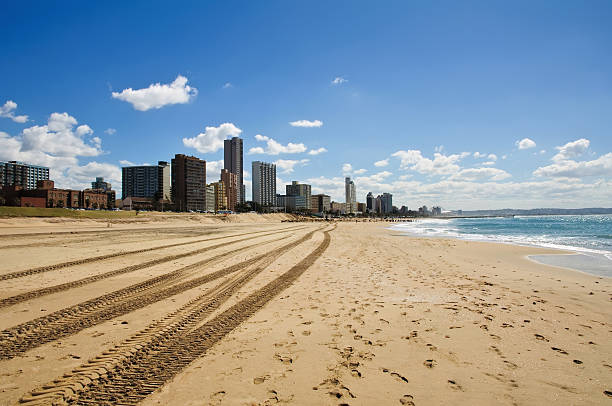vehicle_track: (20, 231, 329, 403), (0, 230, 315, 359), (0, 228, 299, 307), (0, 228, 285, 280)
